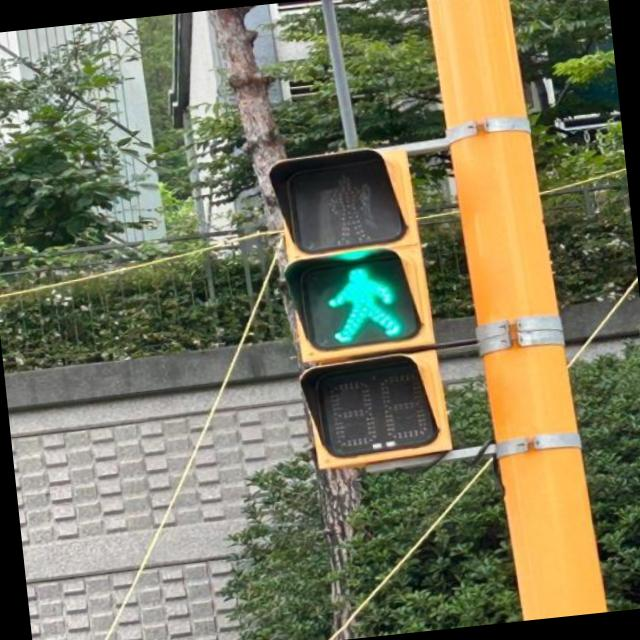green_light: (303, 261, 413, 351)
